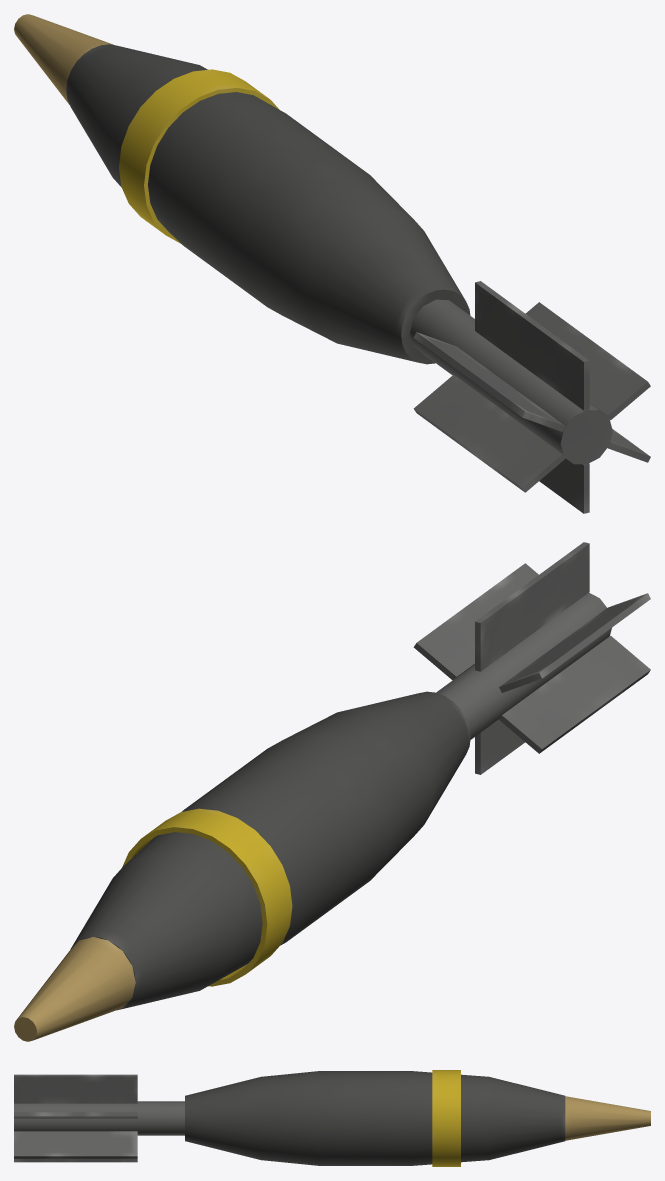
File: Shell50.fbx
The picture shows the model from 3 angles, top to bottom: view 1: azimuth 30°, elevation 25°; view 2: azimuth 150°, elevation 25°; view 3: azimuth 270°, elevation 25°; orthographic projection. The views are drawn at different scales.
Visible parts, largest first — view 1: Shell50_LOD0; view 2: Shell50_LOD0; view 3: Shell50_LOD0.
Boxes of the visible parts, x1,y1,x2,y2 form: Shell50_LOD0: (14,14,650,513); Shell50_LOD0: (14,542,650,1041); Shell50_LOD0: (14,1070,650,1166).
Size of what is drawn, in the model's own units: 5.12 by 5.12 by 33.5.
